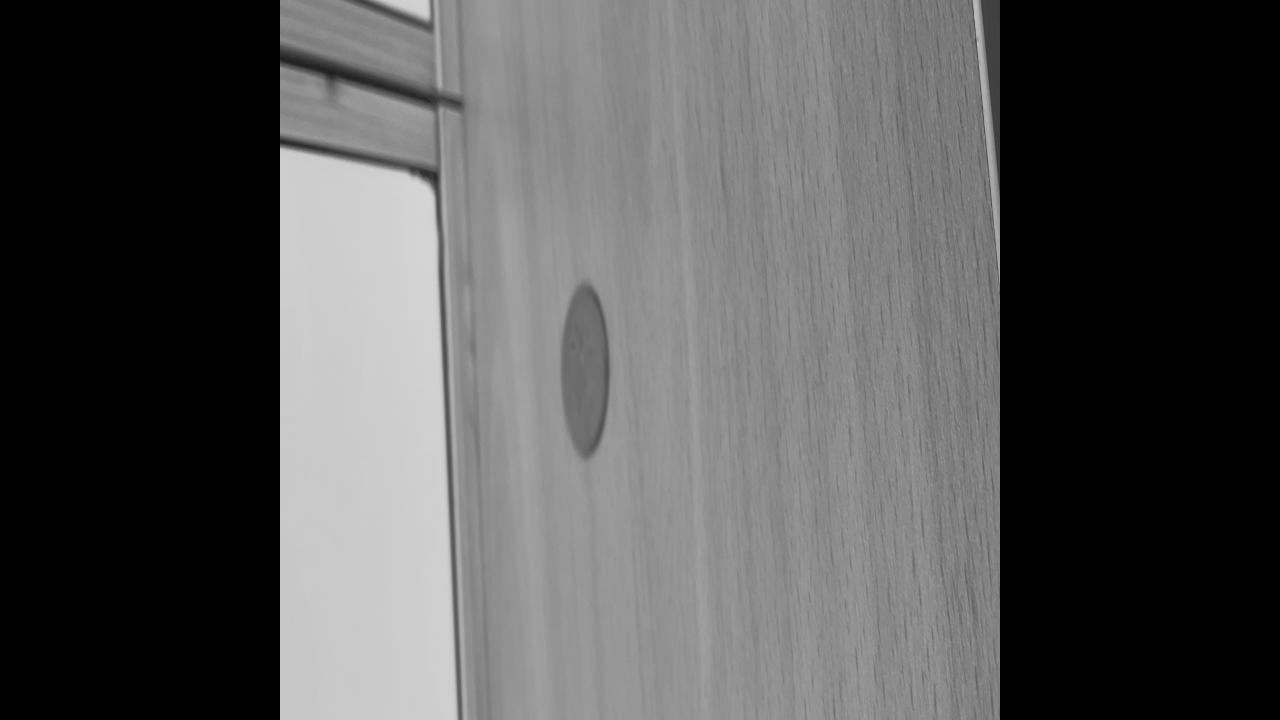coin: (557, 278, 611, 464)
